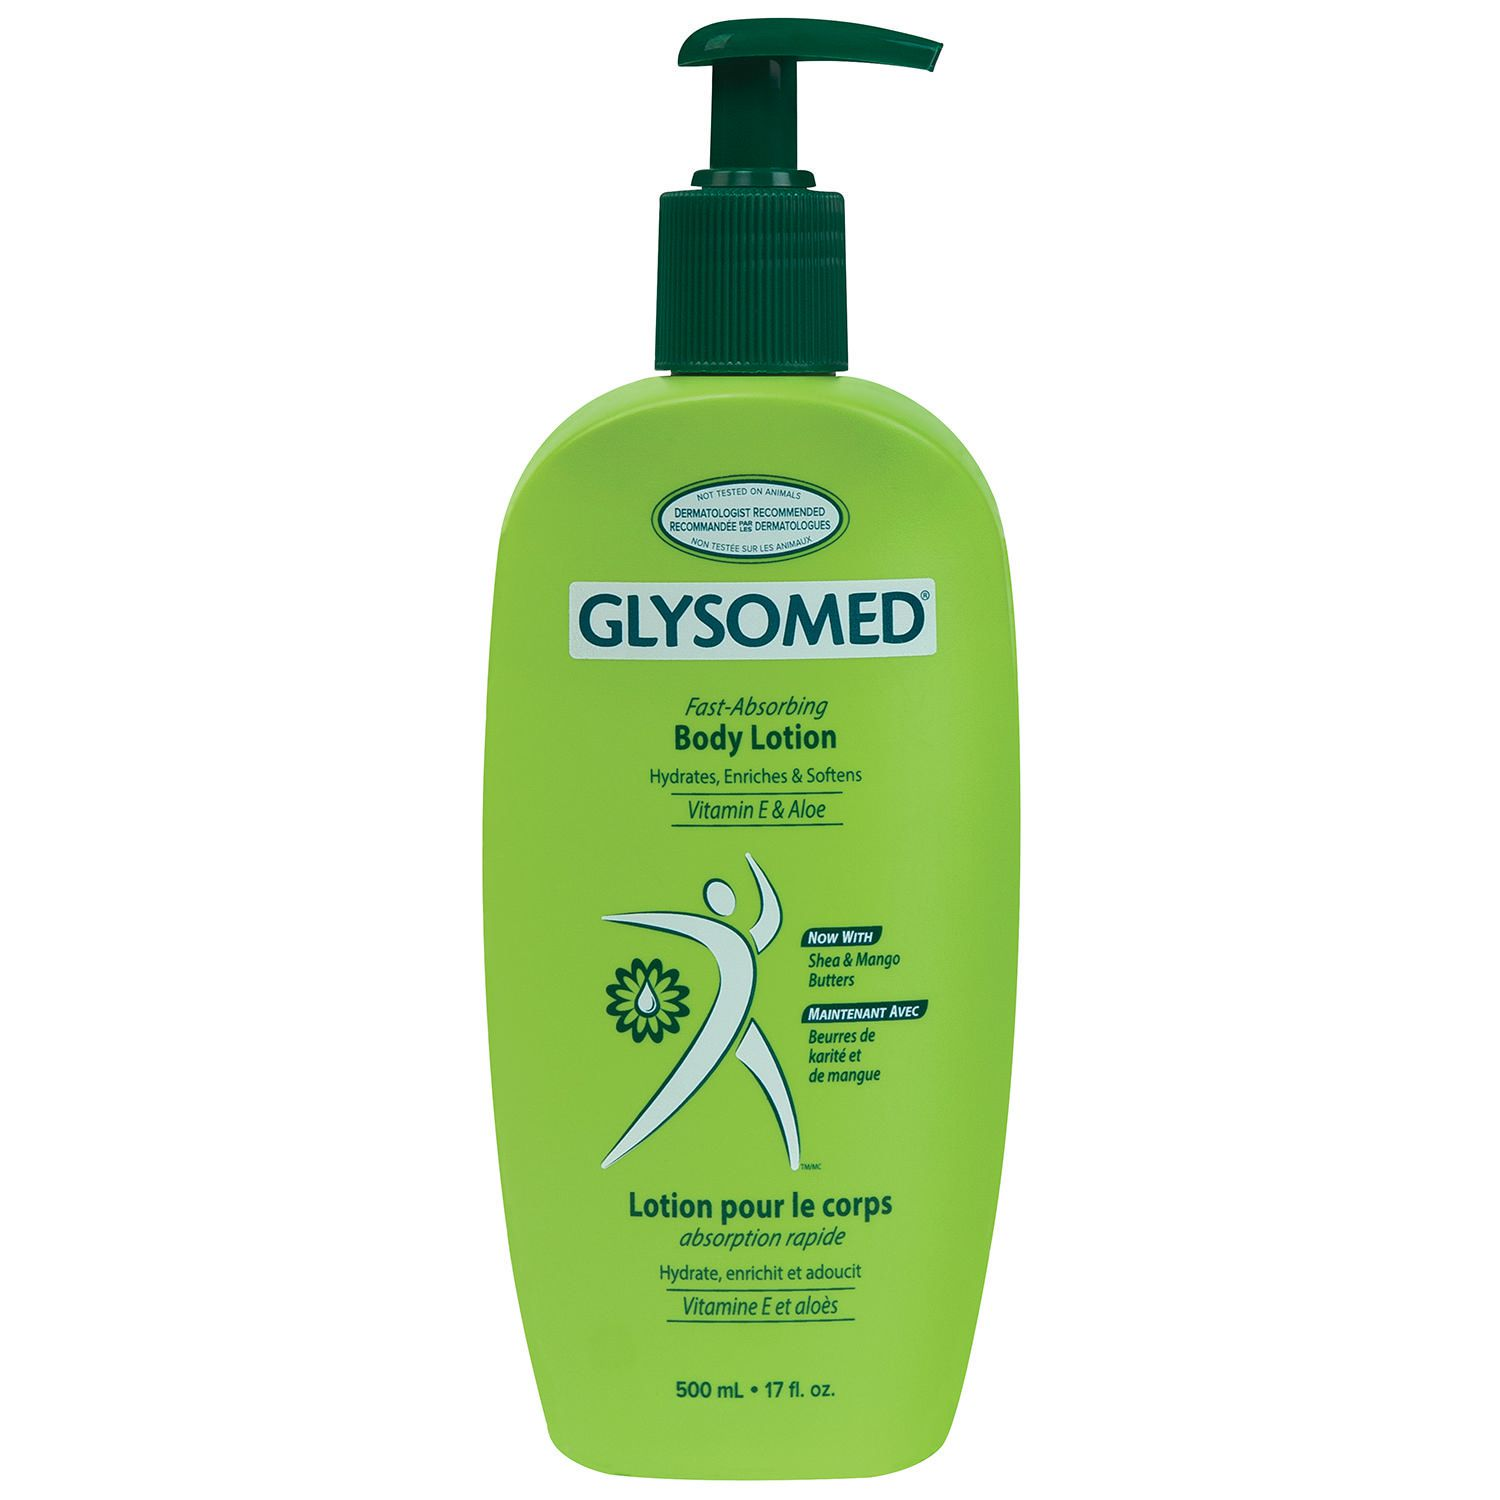Nonrec_Plastic: (360, 10, 1133, 1486)
